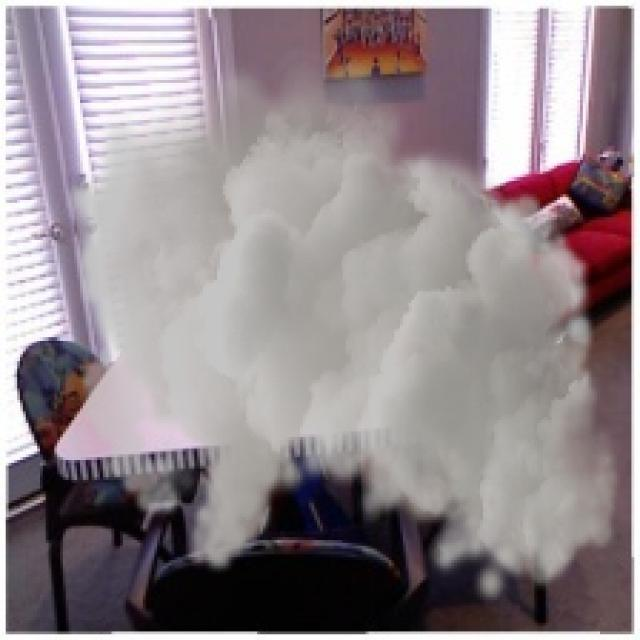Smoke: (63, 46, 623, 608)
